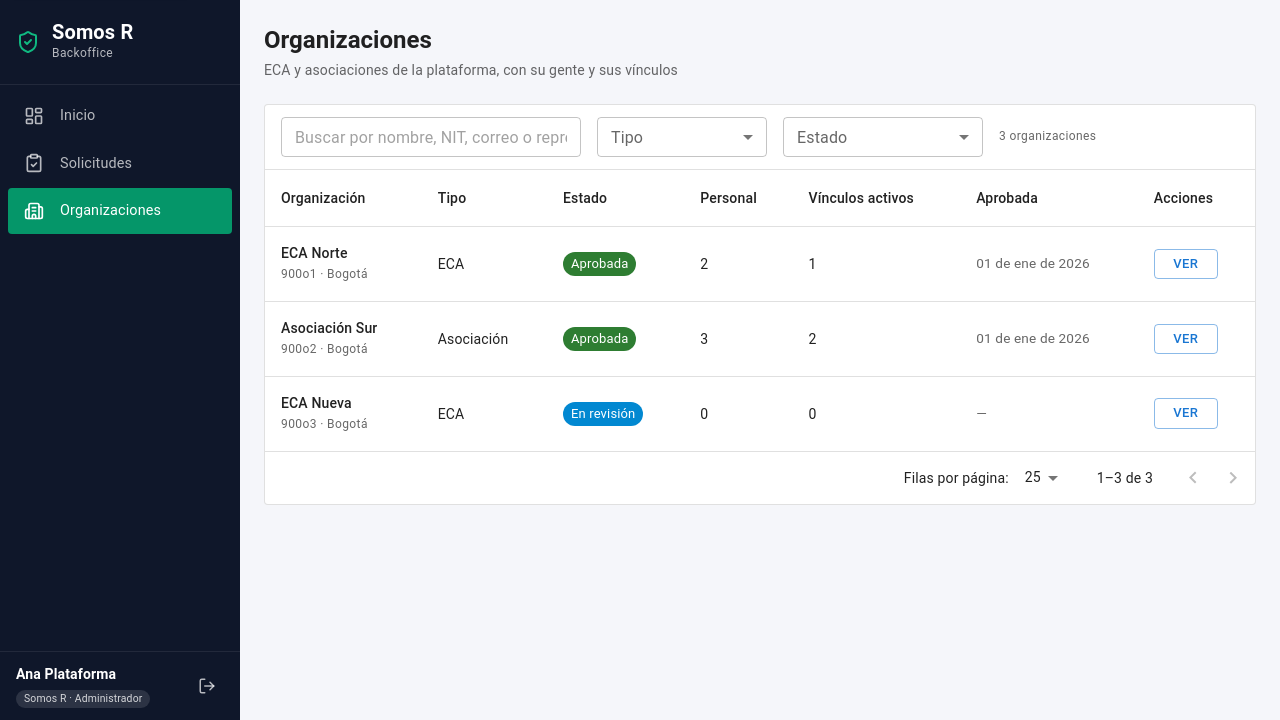
Test: organization detail › has nothing to change: it is read-only
Click the button "Ver" in the row of "ECA Norte": [1186, 264] box [1154,249,1218,279]
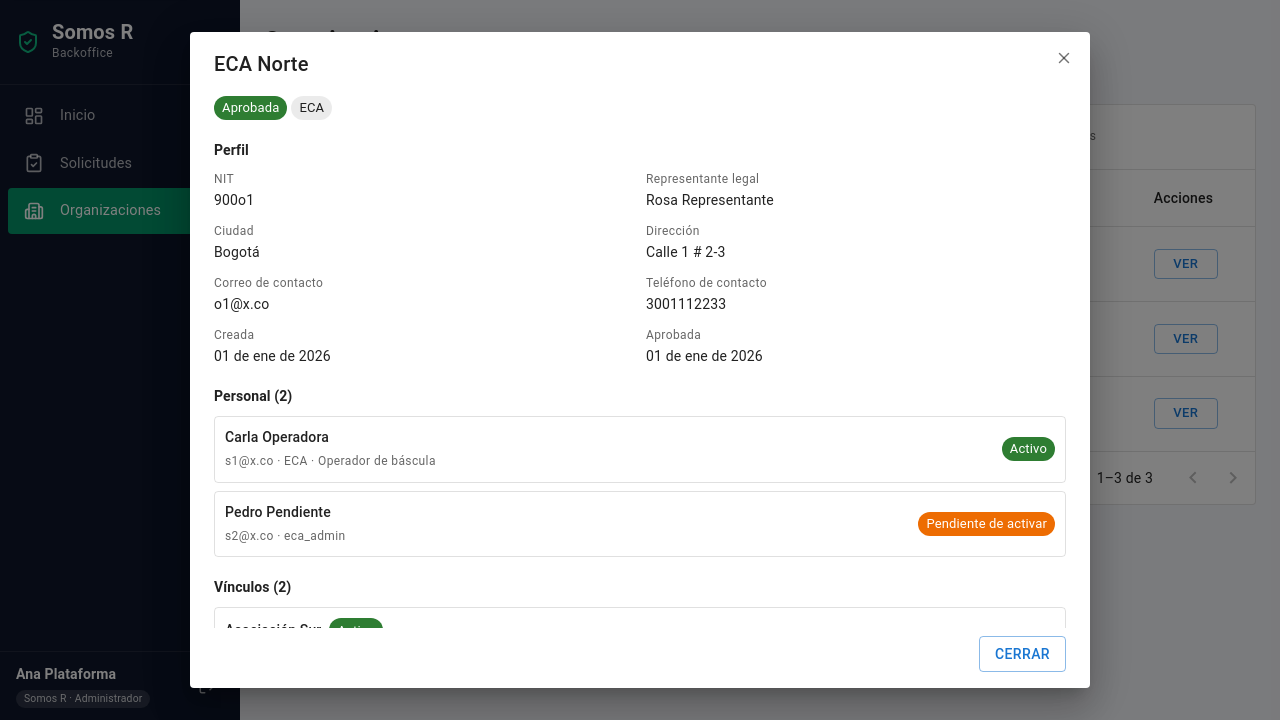
Check: the text "Rosa Representante" is shown, box [646,192,774,208]
